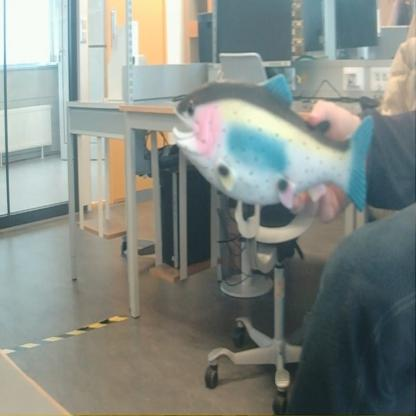rubberfish: (164, 70, 376, 219)
